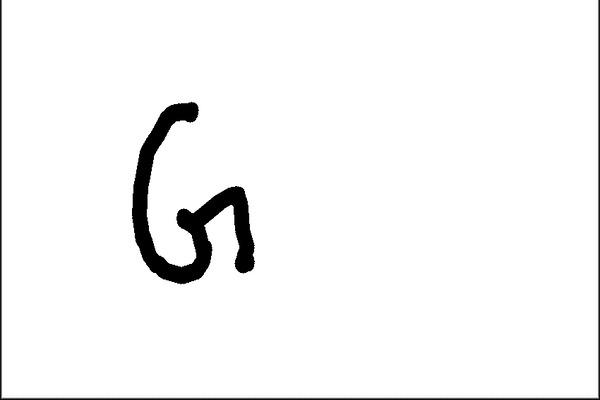G: (124, 98, 262, 285)
